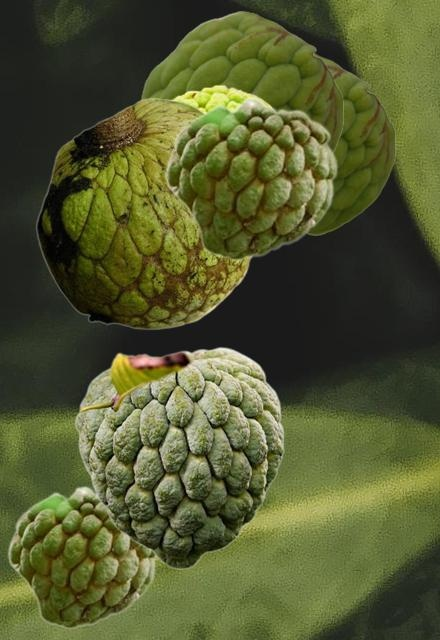atis: (35, 97, 251, 329), (74, 346, 283, 568), (139, 11, 342, 152), (163, 96, 337, 260), (6, 485, 157, 628), (308, 52, 394, 234), (168, 84, 272, 111)
